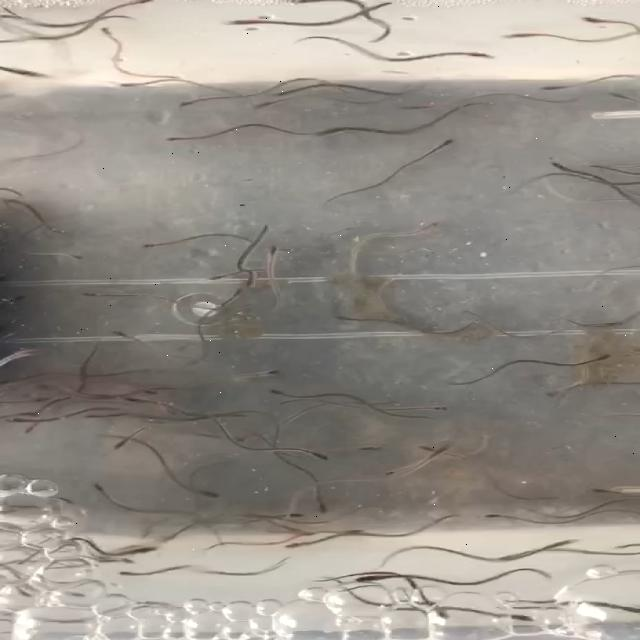active_glass_eel: (527, 537, 590, 557), (9, 66, 61, 82), (491, 606, 536, 624), (406, 217, 444, 236), (418, 137, 460, 153), (222, 14, 263, 30), (354, 569, 400, 583), (307, 496, 339, 516), (424, 604, 459, 622), (254, 242, 285, 262), (577, 350, 615, 366), (282, 534, 320, 550), (111, 567, 153, 581), (424, 441, 456, 459), (448, 50, 500, 61), (584, 483, 622, 498), (113, 545, 159, 557), (302, 128, 344, 141), (250, 98, 284, 114), (408, 442, 446, 456), (536, 386, 574, 400), (396, 102, 439, 114), (7, 415, 50, 427), (540, 156, 572, 172), (264, 87, 306, 99), (251, 369, 289, 382), (228, 282, 250, 304), (503, 30, 543, 42), (531, 80, 579, 90), (343, 442, 389, 452), (172, 96, 210, 108), (264, 388, 302, 400), (111, 80, 147, 92), (160, 135, 196, 147), (200, 272, 236, 284), (186, 486, 218, 499), (96, 28, 120, 45), (85, 482, 107, 500), (307, 449, 337, 462), (134, 241, 172, 251), (74, 290, 112, 300), (579, 15, 613, 26), (379, 467, 413, 478), (325, 314, 361, 324), (120, 396, 150, 408), (609, 93, 640, 104), (110, 438, 134, 452), (482, 510, 512, 521), (242, 272, 260, 290), (419, 402, 451, 412), (54, 255, 88, 264), (112, 329, 140, 339), (117, 0, 160, 5), (291, 0, 331, 5)
